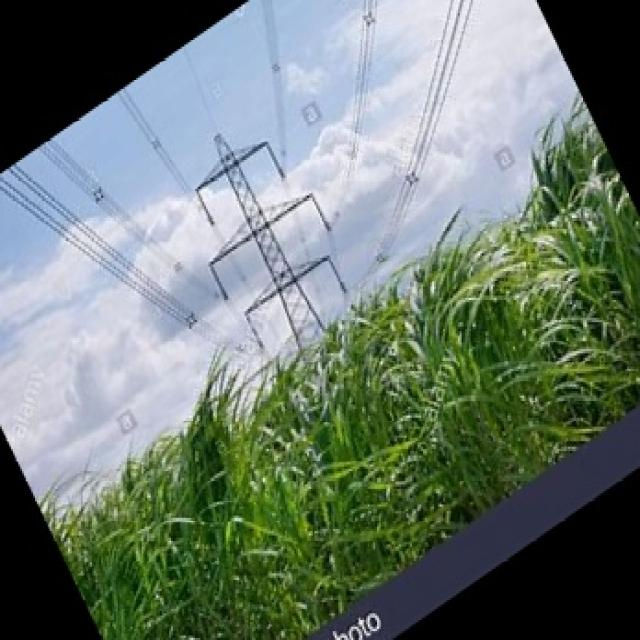utility poles: (192, 112, 446, 546)
